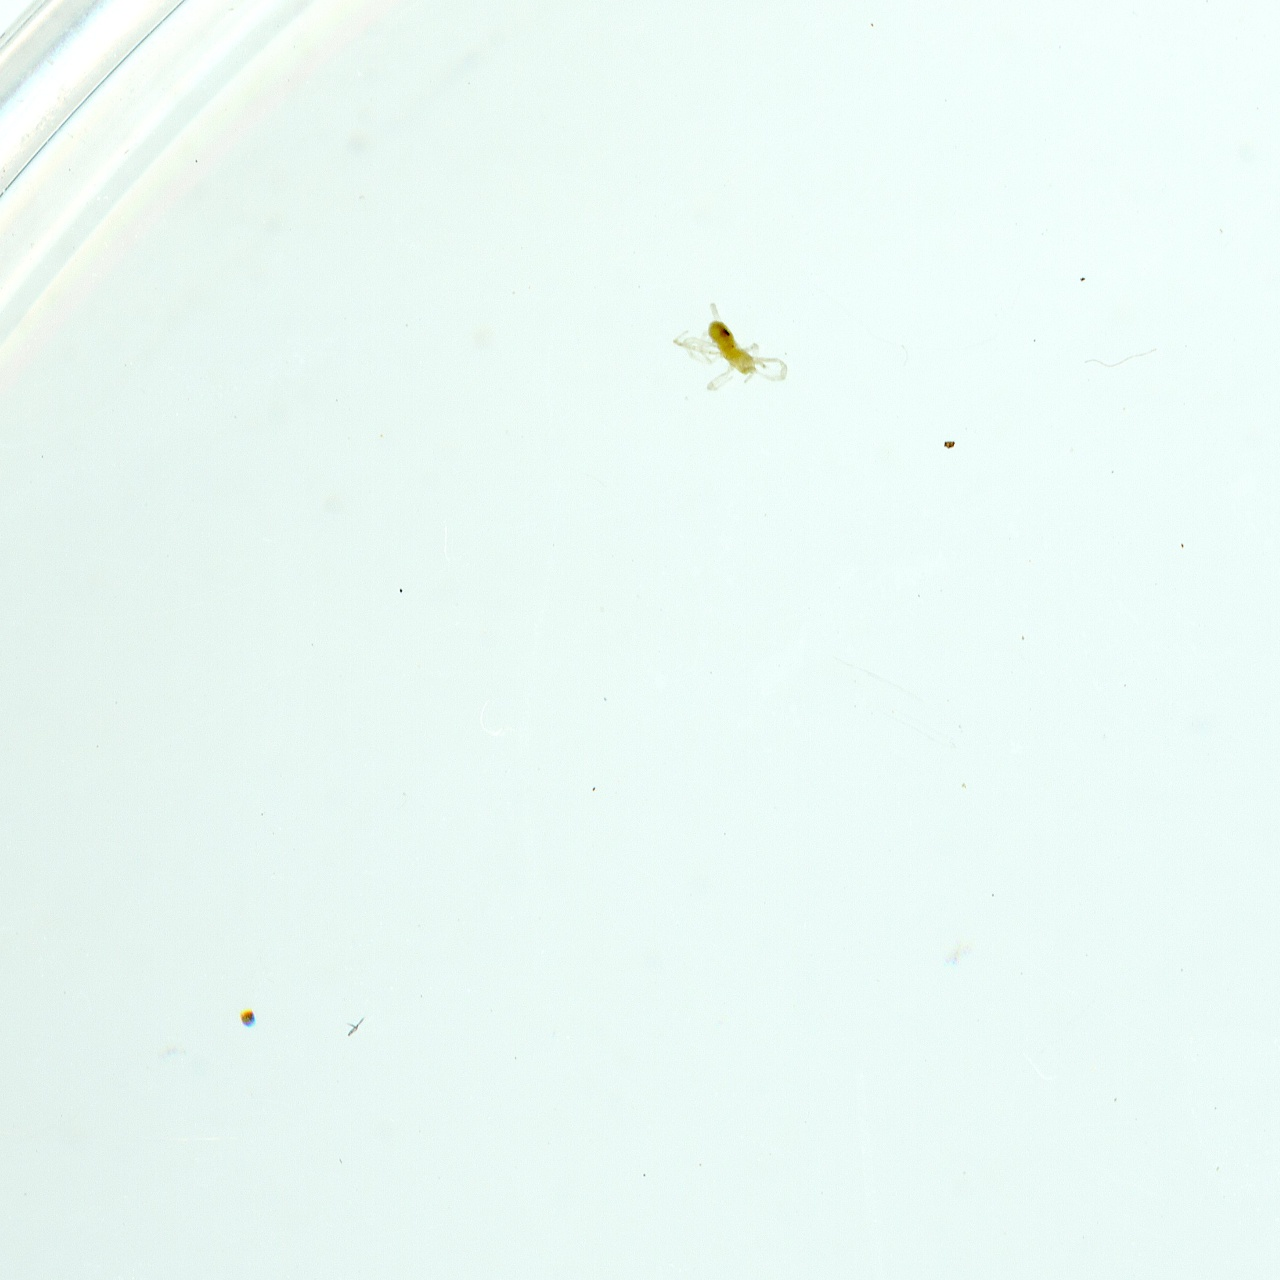arthropod: (665, 285, 802, 402)
